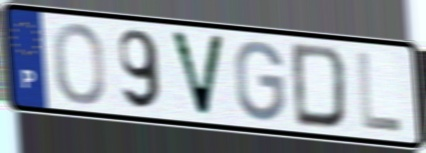9: (117, 27, 162, 113)
D: (289, 41, 350, 133)
G: (233, 38, 287, 124)
L: (355, 49, 406, 135)
O: (51, 21, 108, 107)
V: (166, 28, 228, 121)
